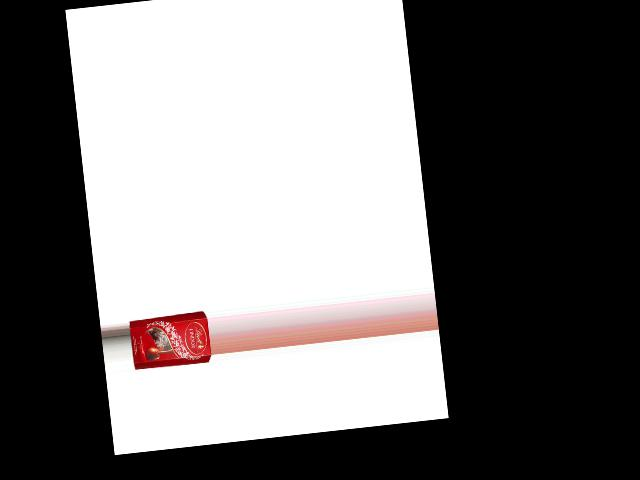chocolate: (128, 309, 212, 374)
